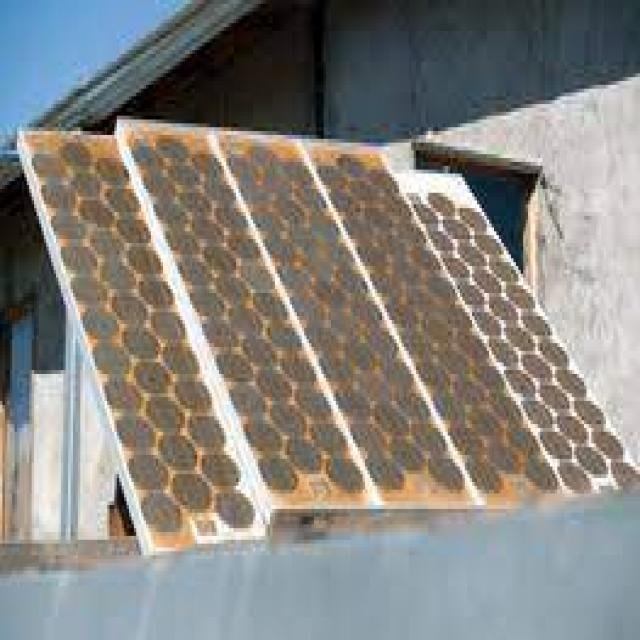faulty: (101, 148, 503, 543)
